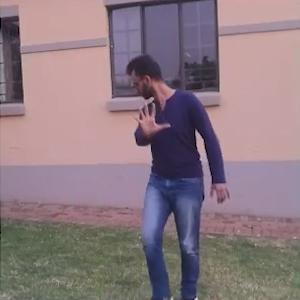follow_hand: (129, 97, 170, 139)
